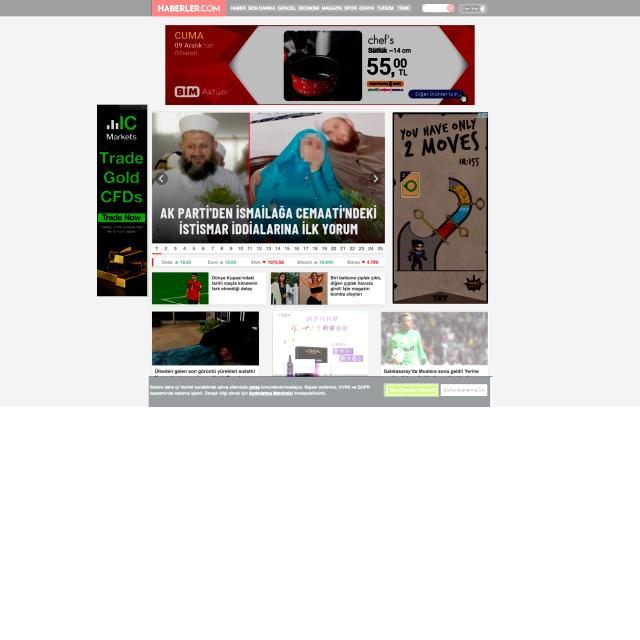CheckBox: (385, 383, 439, 397), (459, 4, 487, 14), (447, 4, 454, 12)
CheckedTextView: (422, 4, 454, 12)
ImageView: (165, 25, 475, 105), (393, 112, 488, 304), (98, 104, 150, 297), (273, 312, 368, 376)
bag: (0, 0, 640, 17)
card: (153, 111, 384, 244)
carousel: (480, 6, 484, 12)
copy: (152, 311, 259, 366), (381, 312, 489, 365), (271, 272, 328, 305), (152, 272, 208, 304)
data feed: (388, 386, 436, 394), (463, 6, 479, 11)
date picker: (151, 0, 225, 17)
decoration: (230, 4, 412, 12)
footer: (426, 6, 444, 10)
header: (150, 377, 493, 407)
